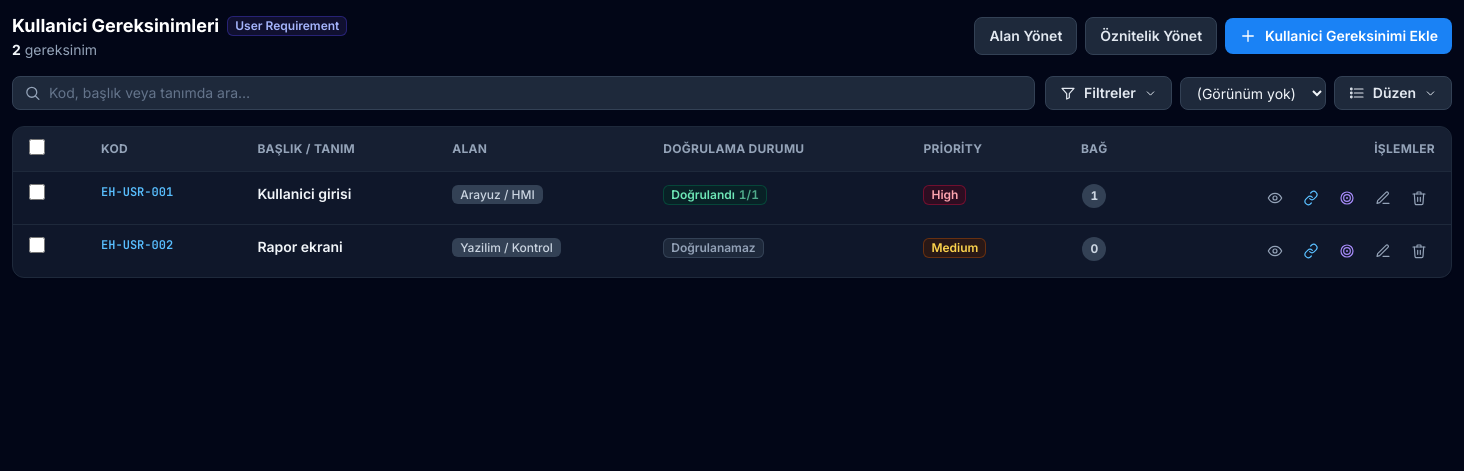
Scenario: Hierarchy — ortak filtre cubugu › Durum filtresi dogrulama durumlarini kullanir (Issue #105)
Click the button with test id "filter-toggle". click: {"x": 1108, "y": 93}
box: top-left (1045, 76), bottom-right (1172, 110)
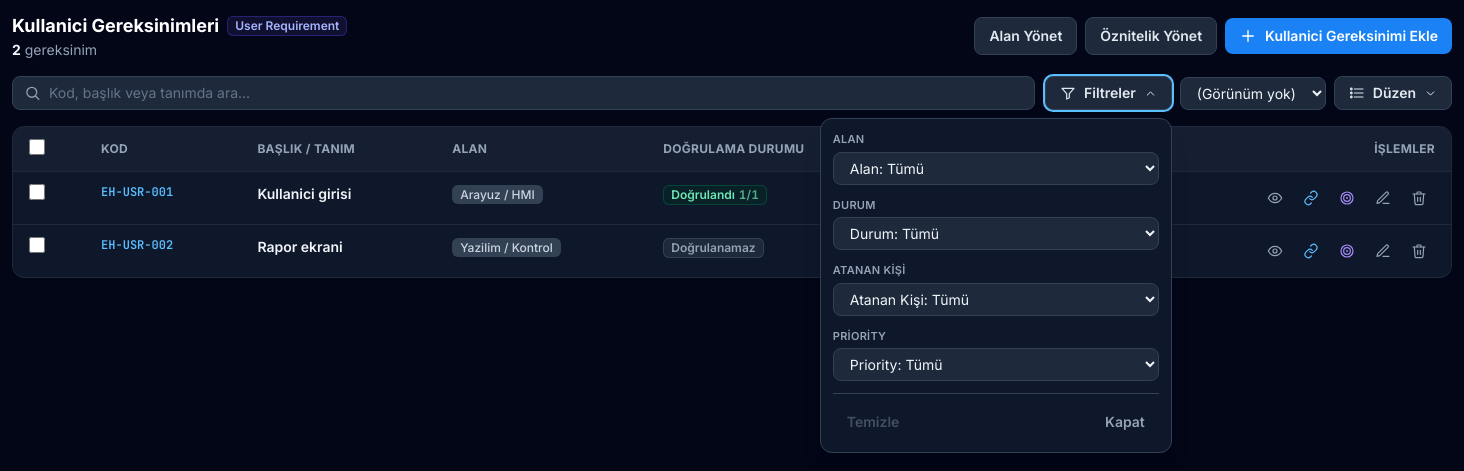
Select "Doğrulanamaz" in the dropdown with test id "filter-status". click: {"x": 996, "y": 234}
box: top-left (833, 217), bottom-right (1159, 250)
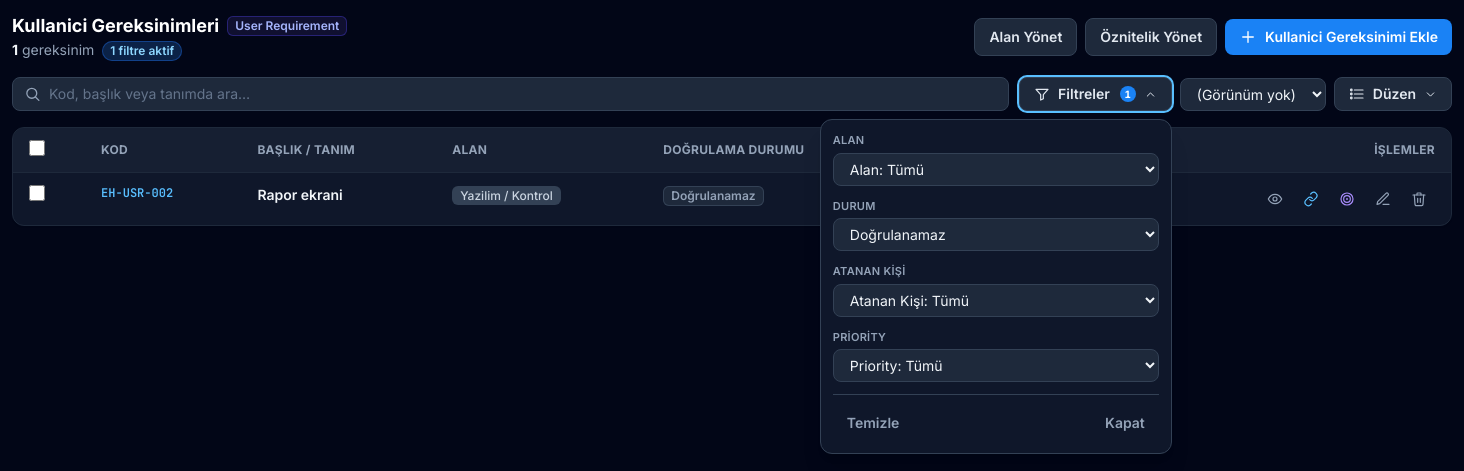
Select "Doğrulandı" in the dropdown with test id "filter-status". click: {"x": 996, "y": 234}
box: top-left (833, 218), bottom-right (1159, 251)
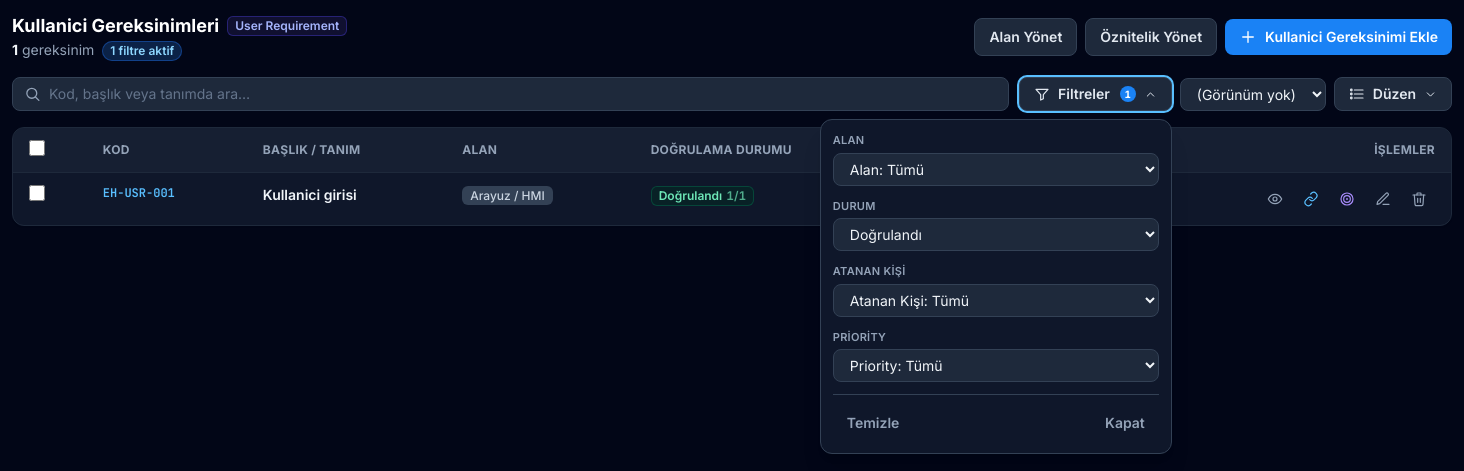
Select "Doğrulanmayı Bekliyor" in the dropdown with test id "filter-status". click: {"x": 996, "y": 234}
box: top-left (833, 218), bottom-right (1159, 251)
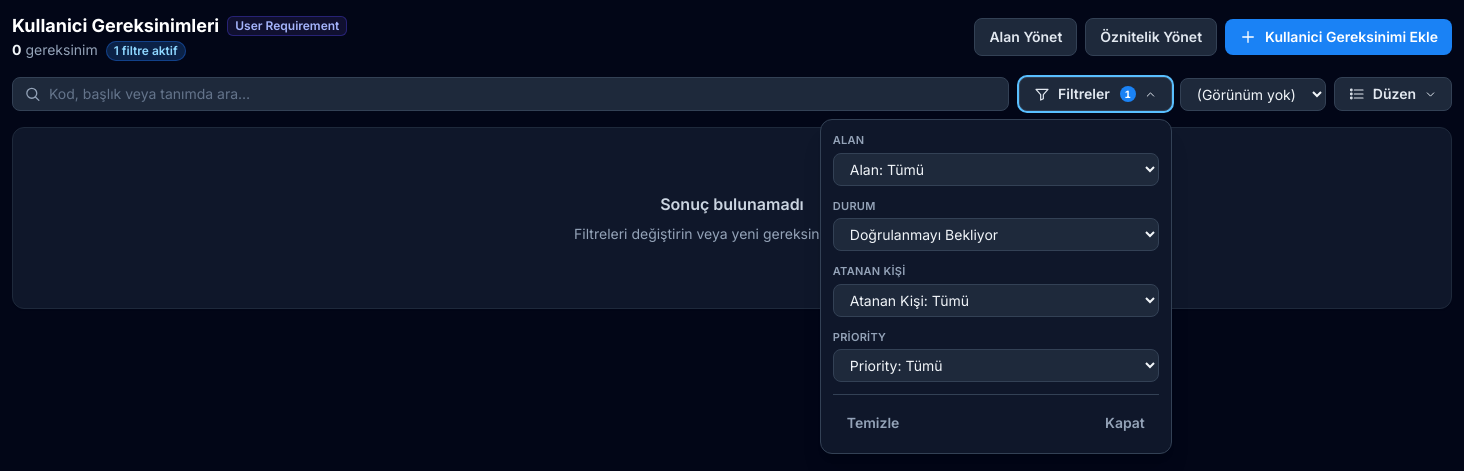
Result: the text "Sonuç bulunamadı" is shown at top-left (660, 192), bottom-right (804, 216)
